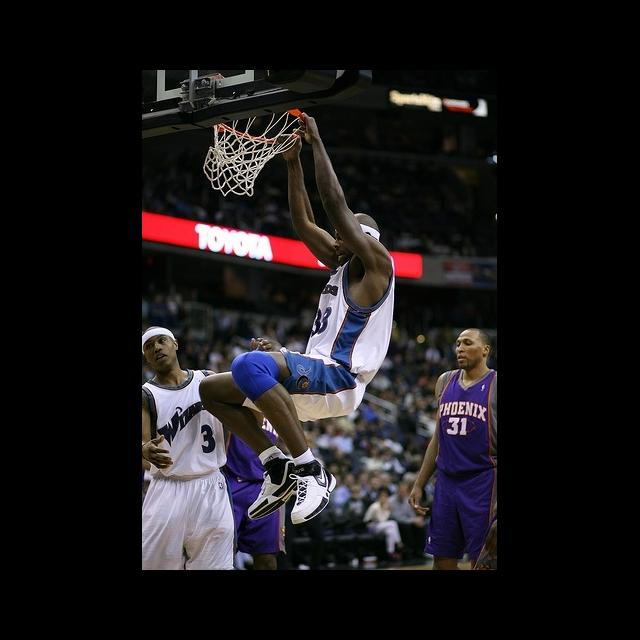hoop: (204, 104, 308, 198)
